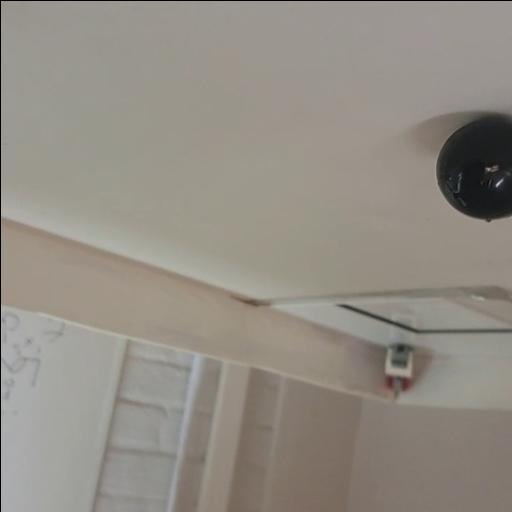dead: (435, 118, 512, 222)
